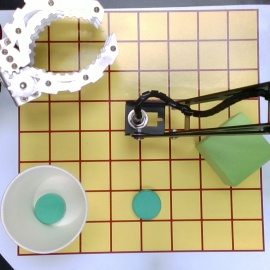cup_green: (3, 165, 87, 251)
green: (133, 190, 162, 218)
